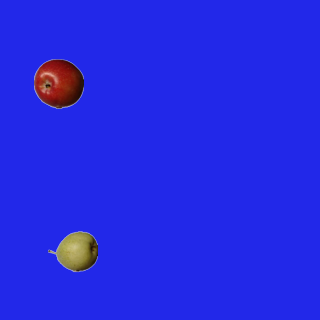Apple Braeburn: (33, 58, 83, 108)
Pear: (47, 226, 97, 276)
